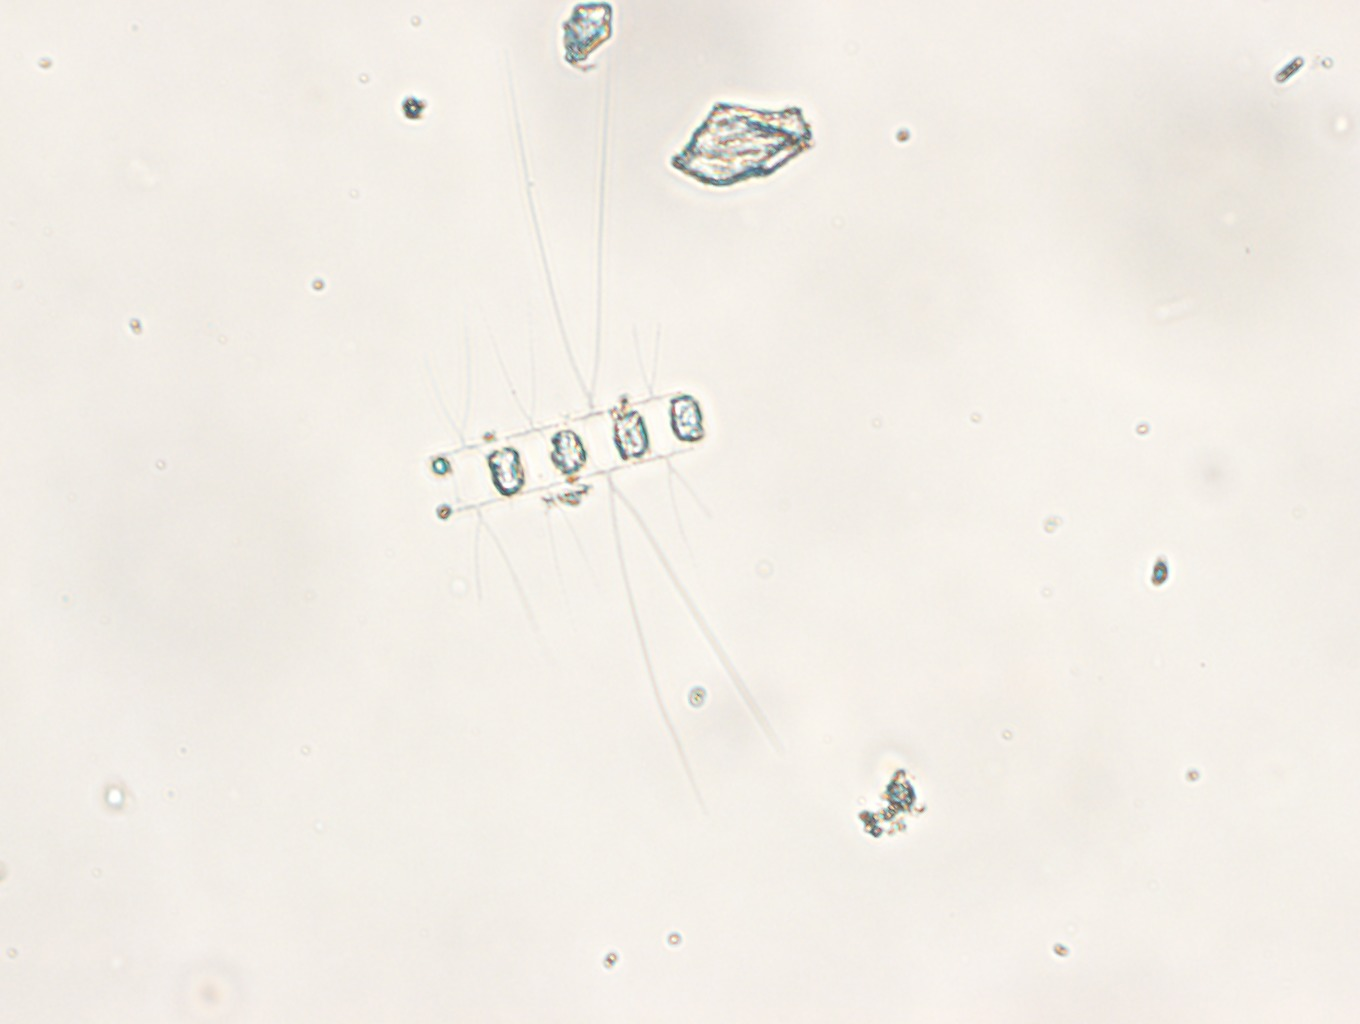chaetoceros: (426, 55, 783, 772)
